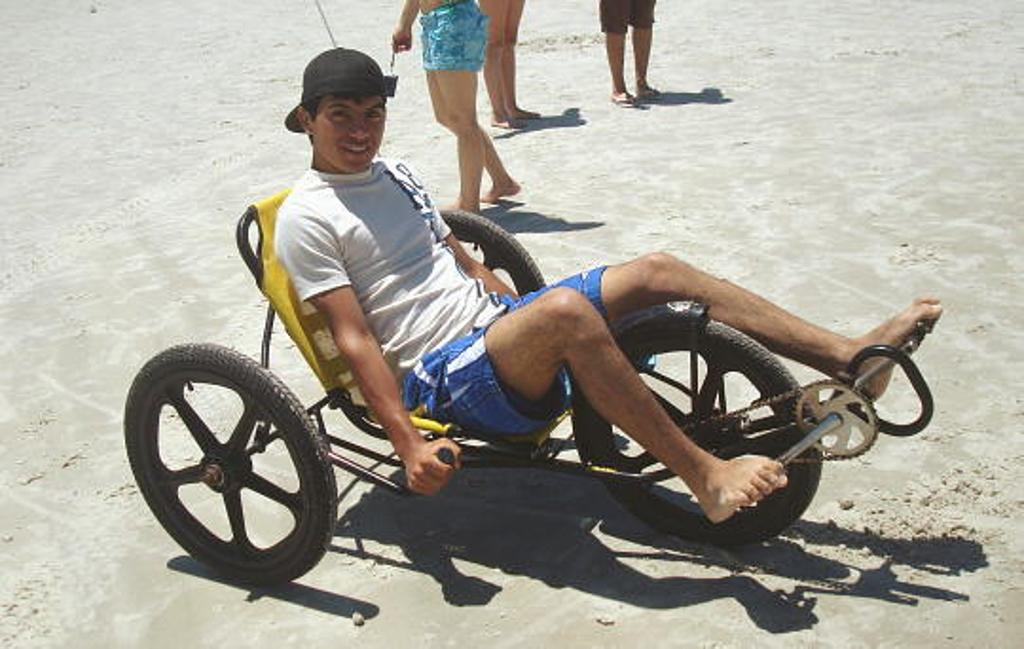face: (322, 84, 386, 164)
